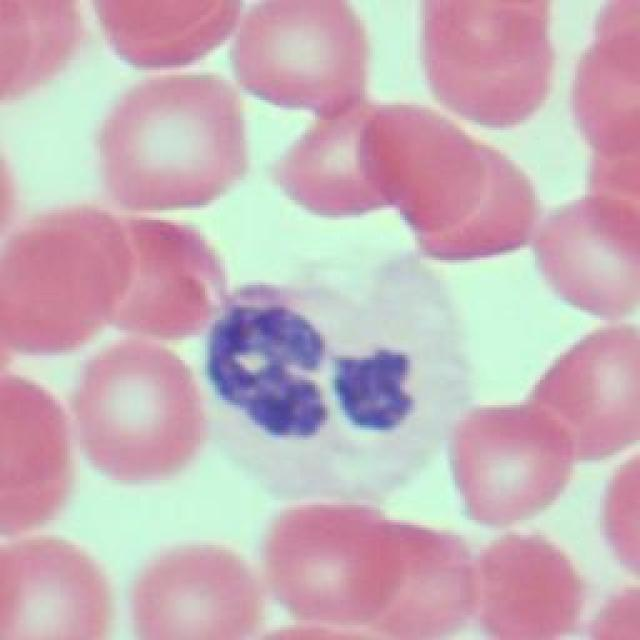RBC: (100, 72, 252, 212), (74, 341, 196, 484), (262, 101, 408, 219), (262, 503, 402, 625), (361, 104, 489, 231), (527, 322, 640, 459), (234, 0, 366, 115), (454, 406, 576, 526), (97, 222, 225, 336), (416, 140, 534, 260), (0, 227, 112, 352), (428, 15, 552, 127), (351, 524, 474, 636), (13, 207, 135, 315), (128, 542, 262, 640), (537, 196, 640, 321), (0, 535, 112, 640), (471, 536, 584, 639), (0, 378, 75, 528), (91, 0, 239, 70), (418, 0, 548, 65), (572, 38, 640, 154), (0, 0, 80, 98), (590, 118, 640, 252), (602, 452, 640, 578), (592, 0, 640, 68), (590, 587, 640, 640)
WBC: (204, 254, 468, 498)
